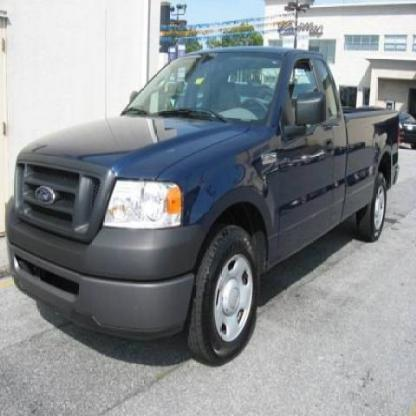Vehicle: (6, 47, 400, 368)
